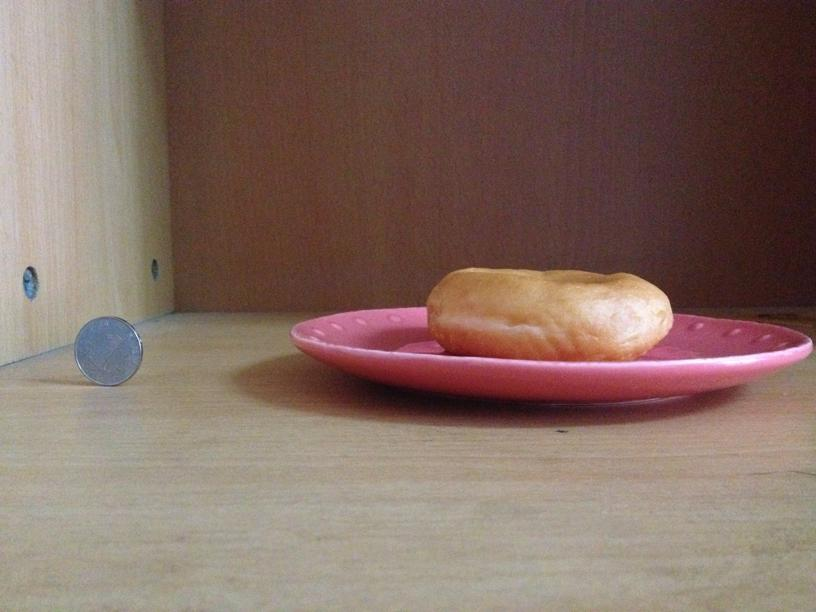coin: (424, 265, 674, 360)
doughnut: (424, 265, 674, 360)
